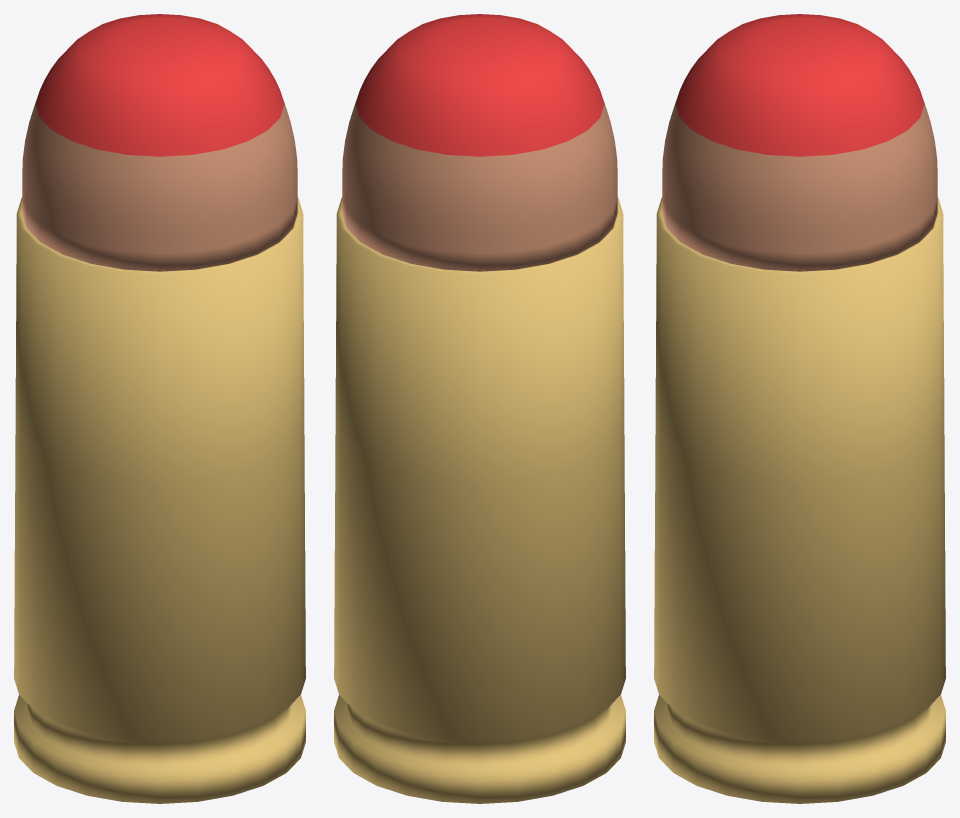
The picture shows the model from 3 angles, left to right: view 1: azimuth 30°, elevation 25°; view 2: azimuth 150°, elevation 25°; view 3: azimuth 270°, elevation 25°; orthographic projection.
Parts seen in each view (by area): view 1: vaina, bala_cuerpo, punta; view 2: vaina, bala_cuerpo, punta; view 3: vaina, bala_cuerpo, punta.
Boxes of the visible parts, left/top/right/bottom form: vaina: left=14, top=197, right=305, bottom=803; bala_cuerpo: left=22, top=97, right=297, bottom=271; punta: left=35, top=14, right=284, bottom=156; vaina: left=334, top=197, right=625, bottom=803; bala_cuerpo: left=342, top=97, right=617, bottom=271; punta: left=355, top=14, right=604, bottom=156; vaina: left=654, top=197, right=945, bottom=803; bala_cuerpo: left=662, top=97, right=937, bottom=271; punta: left=675, top=14, right=924, bottom=156.
Bounding box in the file's own units: 0.0108 × 0.0288 × 0.0108.
